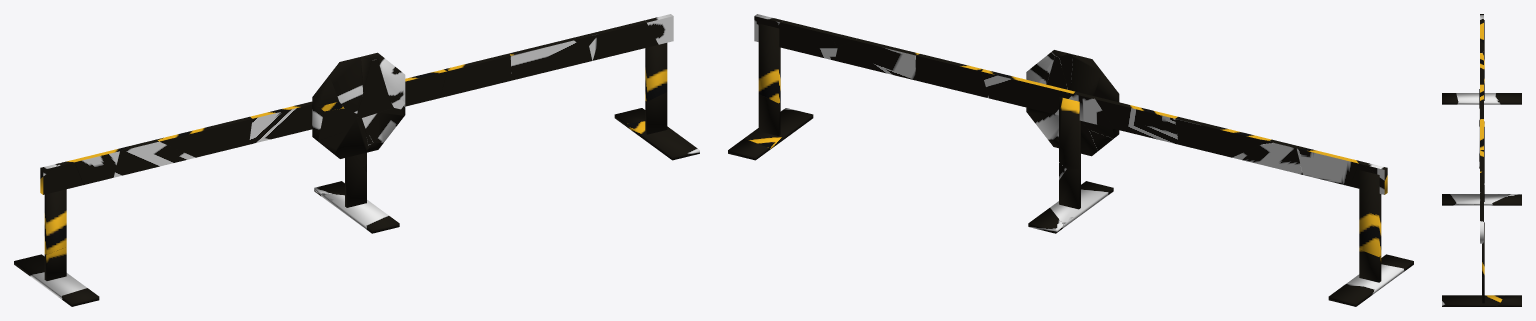
The model's file is obtacle.stop2.broken.fbx.
3 views of the same model, side by side, from view 1: azimuth 30°, elevation 25°; view 2: azimuth 150°, elevation 25°; view 3: azimuth 270°, elevation 25° (orthographic). The views are drawn at different scales.
Parts seen in each view (by area): view 1: Plane_cell.008, Plane_cell.006, Plane_cell.002, Plane_cell.013, Plane_cell.011, Plane_cell.014, Plane.001_cell.011, Circle_cell.001, Plane.001_cell.003, Plane.001_cell.008, Plane.001_cell.023, Plane.001_cell.005 (+14 smaller); view 2: Plane_cell.009, Plane_cell.008, Plane_cell.006, Plane_cell.013, Plane_cell.002, Plane.001_cell.011, Plane.001_cell.023, Plane_cell.011, Plane_cell, Plane.001_cell.001, Plane_cell.014, Plane.001_cell.005 (+11 smaller); view 3: Plane.001_cell.005, Plane.001_cell.008, Plane.001_cell.003, Plane.001_cell.007, Plane.001_cell.025, Plane.001_cell.002, Plane_cell.008, Plane.001_cell.023, Plane_cell.009, Plane_cell.013, Plane_cell.003, Plane_cell.002 (+3 smaller).
Part boxes in pixels (bbox=[...]): Plane_cell.008: bbox=[158, 116, 252, 157]; Plane_cell.006: bbox=[509, 38, 592, 80]; Plane_cell.002: bbox=[440, 53, 511, 97]; Plane_cell.013: bbox=[249, 101, 312, 144]; Plane_cell.011: bbox=[589, 20, 658, 60]; Plane_cell.014: bbox=[113, 140, 195, 177]; Plane.001_cell.011: bbox=[44, 189, 66, 254]; Circle_cell.001: bbox=[329, 57, 362, 113]; Plane.001_cell.003: bbox=[321, 193, 399, 233]; Plane.001_cell.008: bbox=[627, 121, 699, 160]; Plane.001_cell.023: bbox=[645, 43, 667, 101]; Plane.001_cell.005: bbox=[14, 254, 86, 299]; Plane_cell.009: bbox=[981, 69, 1074, 113]; Plane_cell.008: bbox=[1175, 117, 1271, 157]; Plane_cell.006: bbox=[835, 38, 919, 80]; Plane_cell.013: bbox=[1093, 96, 1178, 144]; Plane_cell.002: bbox=[915, 54, 988, 98]; Plane.001_cell.011: bbox=[1359, 170, 1381, 256]; Plane.001_cell.023: bbox=[758, 23, 780, 103]; Plane_cell.011: bbox=[777, 20, 837, 60]; Plane_cell: bbox=[1296, 148, 1358, 186]; Plane.001_cell.001: bbox=[1059, 98, 1080, 168]; Plane_cell.014: bbox=[1232, 139, 1309, 174]; Plane.001_cell.005: bbox=[1328, 264, 1404, 306]; Plane.001_cell.005: bbox=[1456, 93, 1521, 104]; Plane.001_cell.008: bbox=[1442, 295, 1503, 306]; Plane.001_cell.003: bbox=[1442, 194, 1510, 205]; Plane.001_cell.007: bbox=[1492, 194, 1521, 205]; Plane.001_cell.025: bbox=[1496, 295, 1521, 306]; Plane.001_cell.002: bbox=[1442, 93, 1457, 104]; Plane_cell.008: bbox=[1480, 53, 1483, 84]; Plane.001_cell.023: bbox=[1482, 222, 1484, 277]; Plane_cell.009: bbox=[1480, 119, 1483, 150]; Plane_cell.013: bbox=[1480, 84, 1483, 112]; Plane_cell.003: bbox=[1480, 217, 1483, 243]; Plane_cell.002: bbox=[1480, 150, 1483, 171].
Size of the model in its own units: 1260 by 292 by 200.
1 material, 1 textured.
